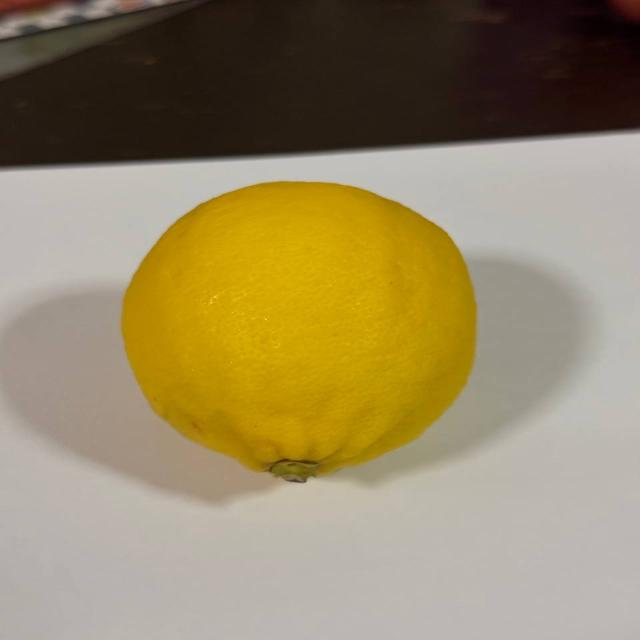lemon: (111, 175, 496, 490)
